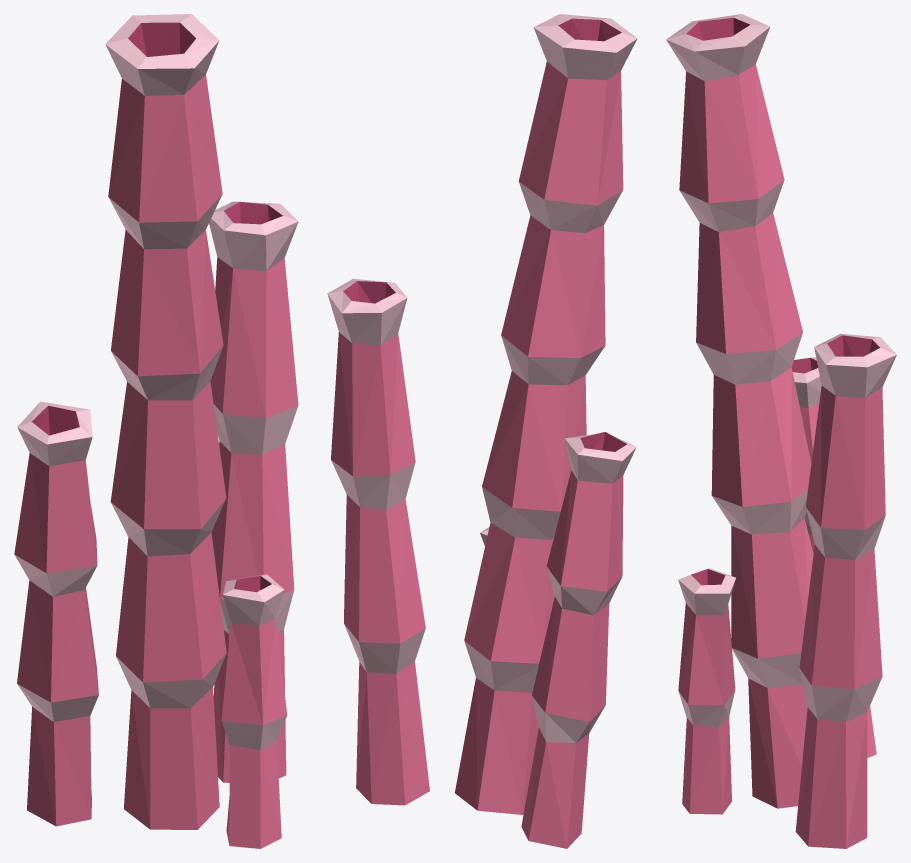
File: coral_pillar_pink.fbx
3 views of the same model, side by side, from view 1: azimuth 30°, elevation 25°; view 2: azimuth 150°, elevation 25°; view 3: azimuth 270°, elevation 25° (orthographic). The views are drawn at different scales.
Visible parts, largest first — view 1: coral_pillar_pink; view 2: coral_pillar_pink; view 3: coral_pillar_pink.
Part boxes in pixels (x1=…): coral_pillar_pink: x1=14, y1=14, x2=298, y2=848; coral_pillar_pink: x1=327, y1=14, x2=637, y2=848; coral_pillar_pink: x1=666, y1=14, x2=896, y2=848.
Bounding box in the file's own units: 702 × 1892 × 530.
1 material, 1 textured.
